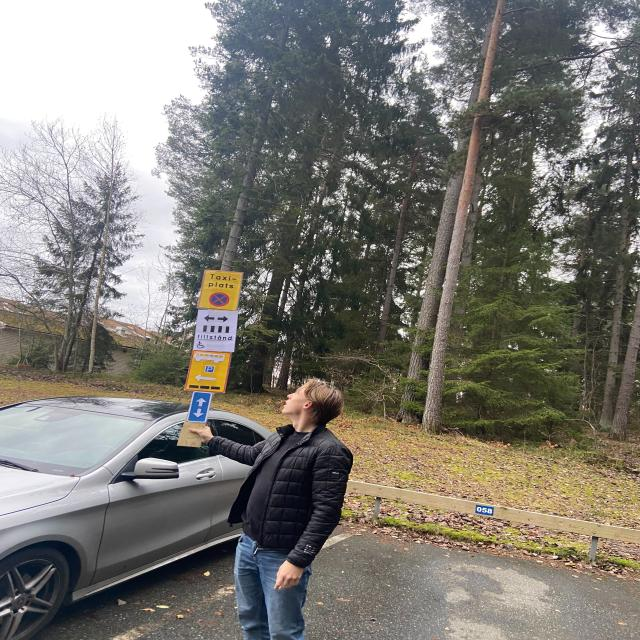lastplats: (197, 267, 241, 313)
